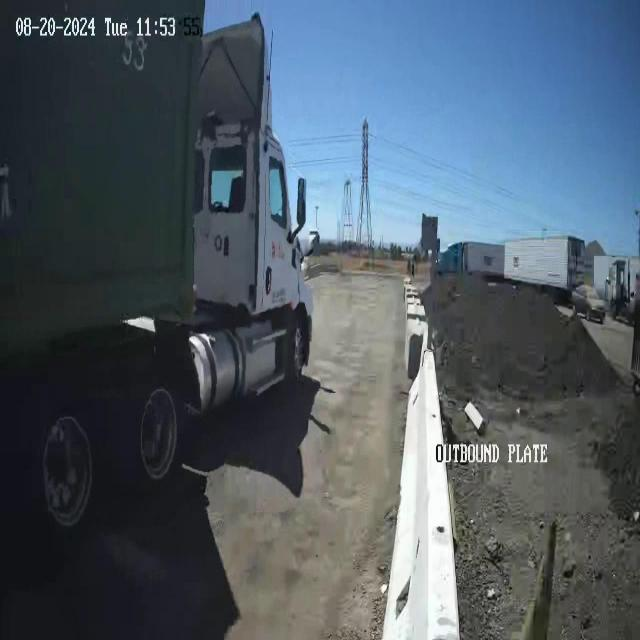TRUCK_CONTAINER: (1, 3, 318, 537)
